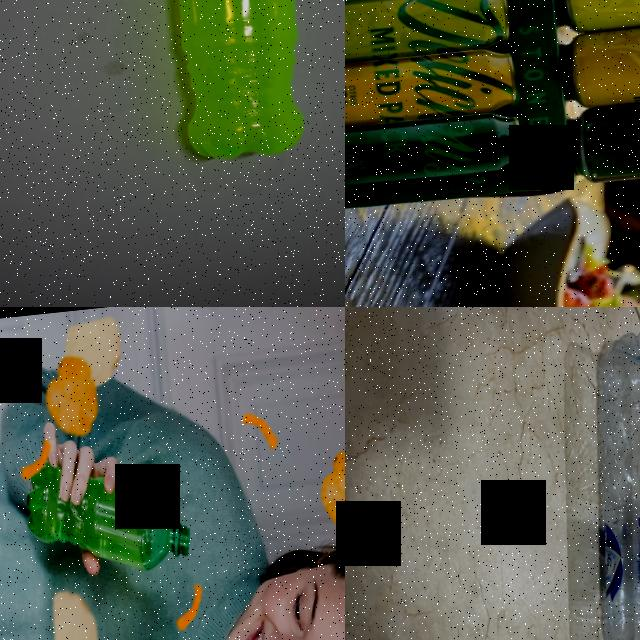bottle: (553, 310, 640, 640), (157, 0, 313, 163), (22, 458, 196, 586)
can: (557, 8, 640, 111), (567, 84, 640, 186)
